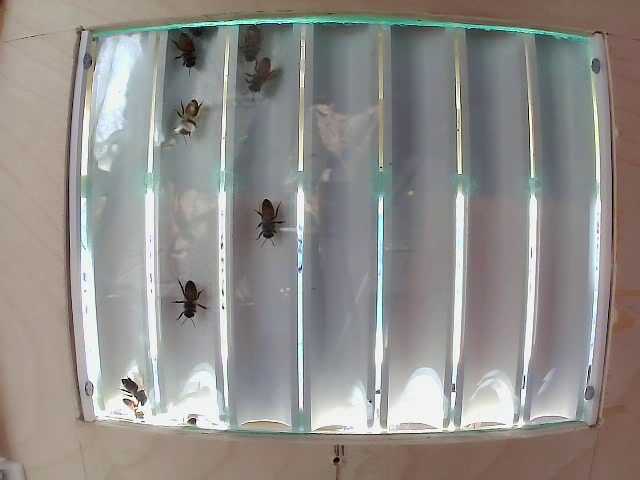bee: (160, 266, 211, 321), (235, 193, 286, 248), (161, 94, 206, 146), (242, 54, 286, 103), (169, 33, 212, 81), (239, 25, 277, 64)
